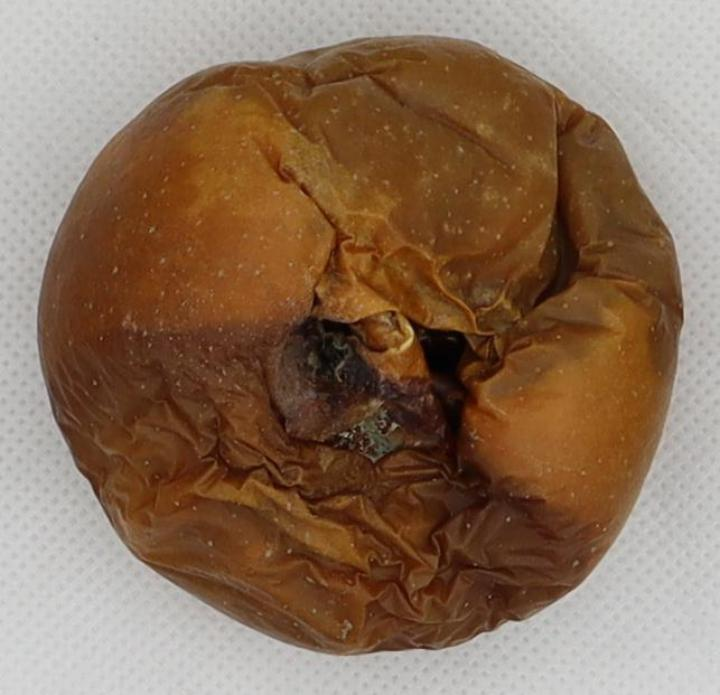apple: (39, 37, 681, 653)
rot_mold_decay: (38, 37, 682, 654)
